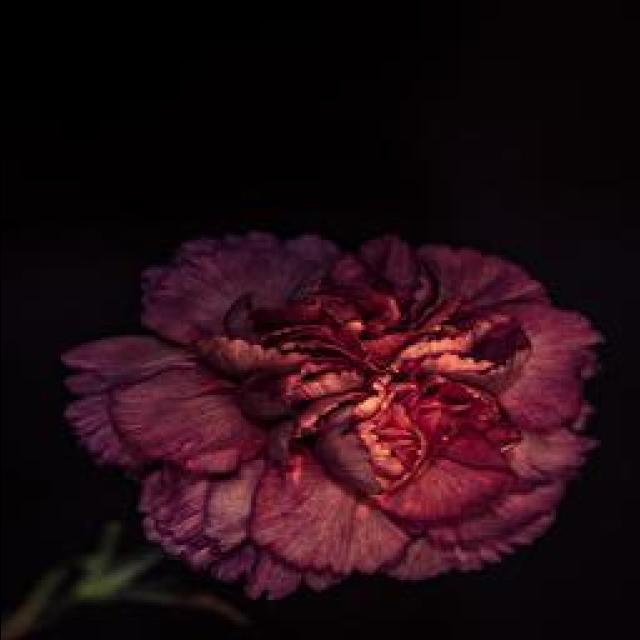carnation: (42, 216, 601, 640)
